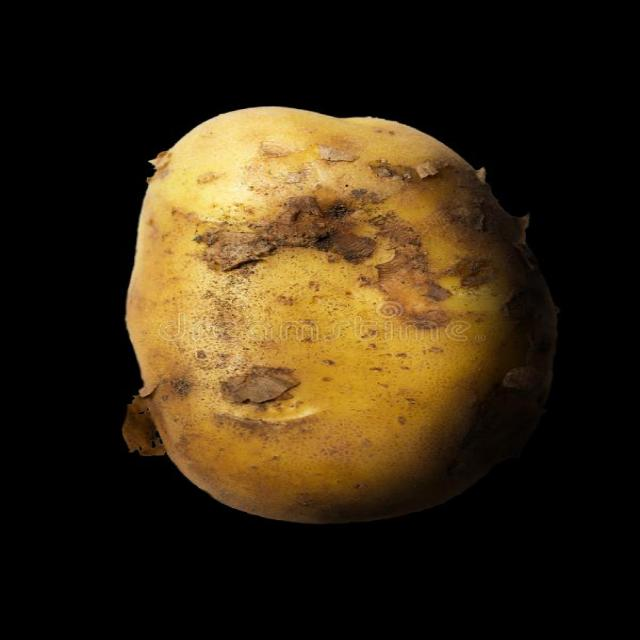potato: (126, 105, 554, 524)
